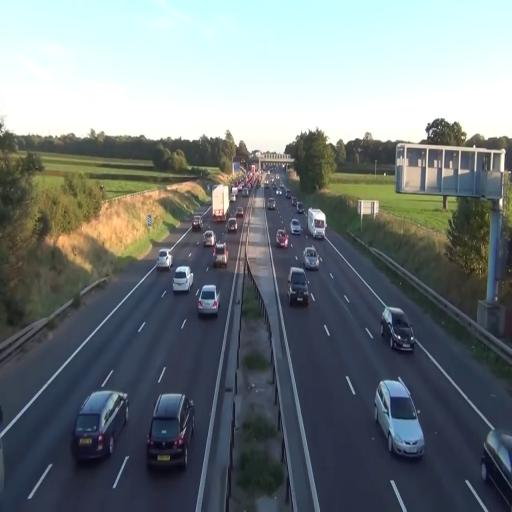vehicle: (70, 389, 128, 465), (375, 378, 425, 458), (146, 390, 196, 470), (481, 426, 512, 506), (380, 306, 416, 353), (288, 268, 310, 306), (197, 284, 220, 318), (212, 184, 229, 221), (172, 265, 193, 294), (308, 207, 326, 239), (308, 208, 326, 240), (303, 245, 320, 271), (213, 244, 228, 267), (276, 226, 290, 249), (157, 250, 172, 270), (290, 216, 304, 235), (202, 230, 216, 249), (226, 214, 238, 233), (265, 196, 277, 210)
